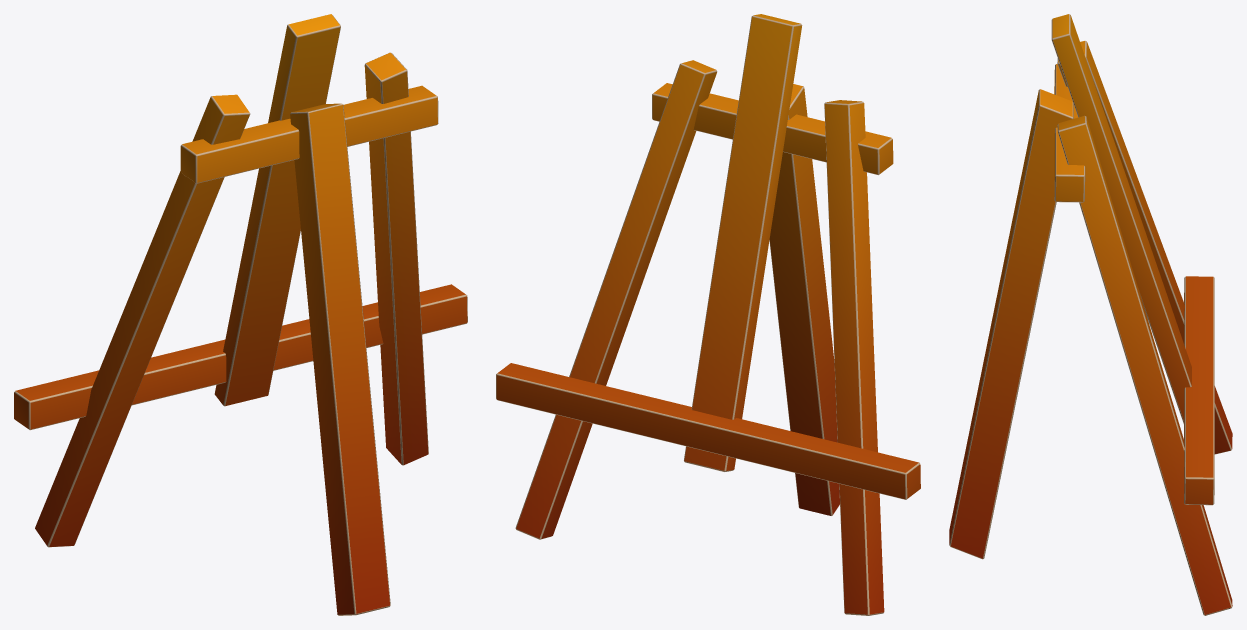
Rendered from art-room-easel.glb.
3 renders of one model, left to right at view 1: azimuth 30°, elevation 25°; view 2: azimuth 150°, elevation 25°; view 3: azimuth 270°, elevation 25°, orthographic. The views are drawn at different scales.
Visible parts, largest first — view 1: easel; view 2: easel; view 3: easel.
Part boxes in pixels (x1,y1,x2,y2): easel: (14,14,467,615); easel: (496,14,920,615); easel: (949,14,1232,615).
Size of the model in its own units: 1.31 by 1.59 by 0.7728.
Materials: 1 (1 with a texture image).
